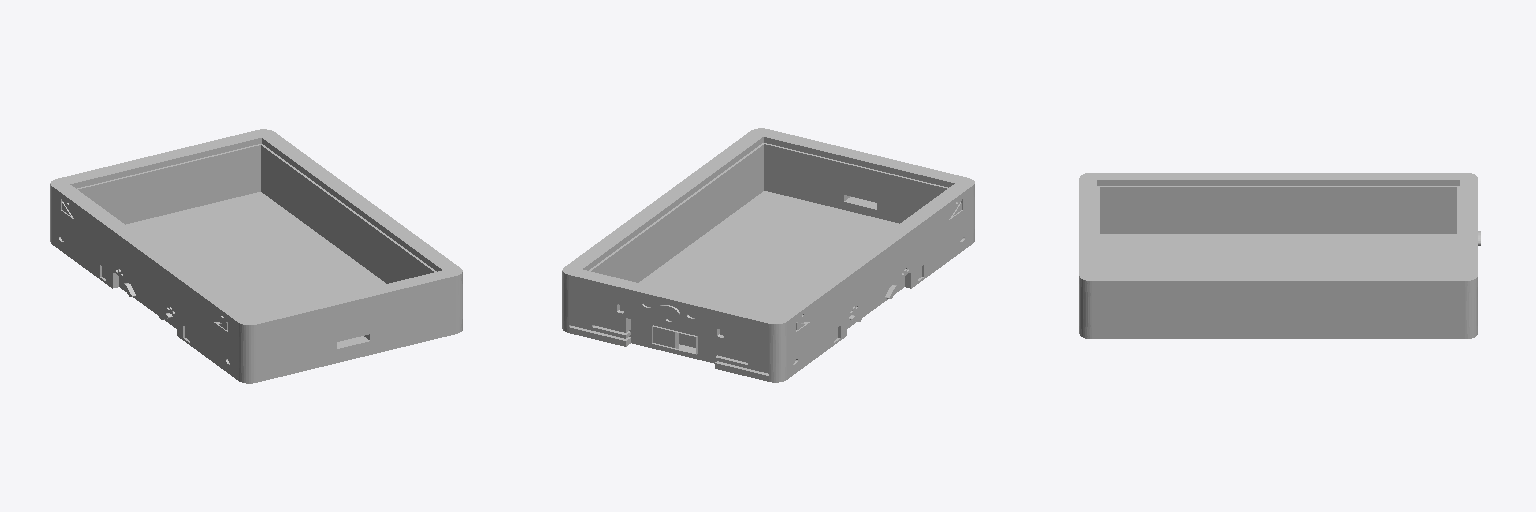
The model's file is Holoboxv4_base.obj.
The picture shows the model from 3 angles: view 1: azimuth 30°, elevation 25°; view 2: azimuth 150°, elevation 25°; view 3: azimuth 270°, elevation 25°; orthographic projection.
Bounding box in the file's own units: 100 × 25 × 156.